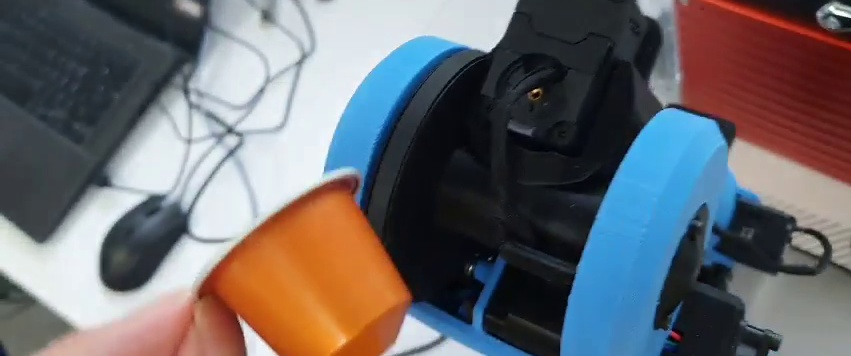capsule_5: (191, 168, 413, 356)
